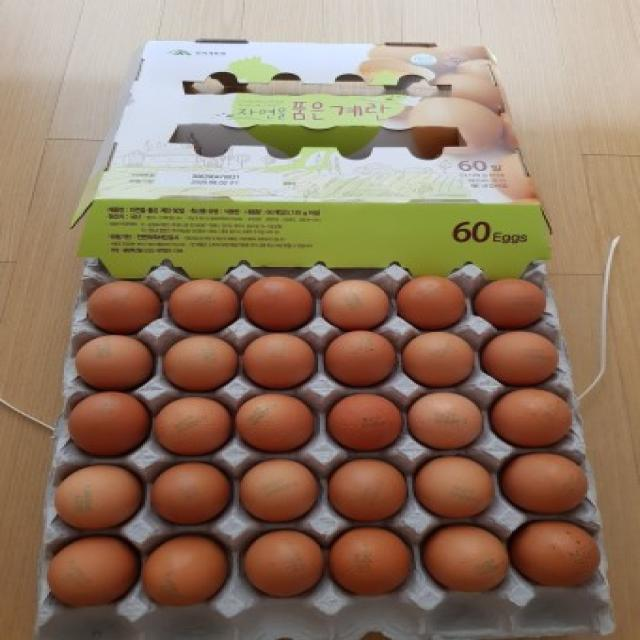eggs: (46, 528, 145, 610), (138, 526, 228, 611), (492, 448, 598, 518), (327, 523, 419, 599), (238, 526, 328, 600), (503, 521, 602, 588), (415, 517, 508, 586), (412, 448, 498, 519), (42, 462, 140, 524), (234, 390, 320, 459), (65, 389, 154, 455), (153, 397, 242, 463), (325, 452, 408, 522), (241, 457, 323, 524), (323, 390, 410, 453), (318, 328, 406, 389), (150, 460, 232, 525), (398, 328, 479, 390), (478, 329, 566, 386), (492, 388, 574, 448), (71, 335, 160, 390), (237, 332, 320, 388), (238, 274, 318, 332), (395, 268, 470, 329), (162, 279, 246, 333), (318, 276, 397, 332), (84, 280, 168, 332), (406, 391, 484, 446), (159, 336, 238, 388), (475, 279, 554, 331)
